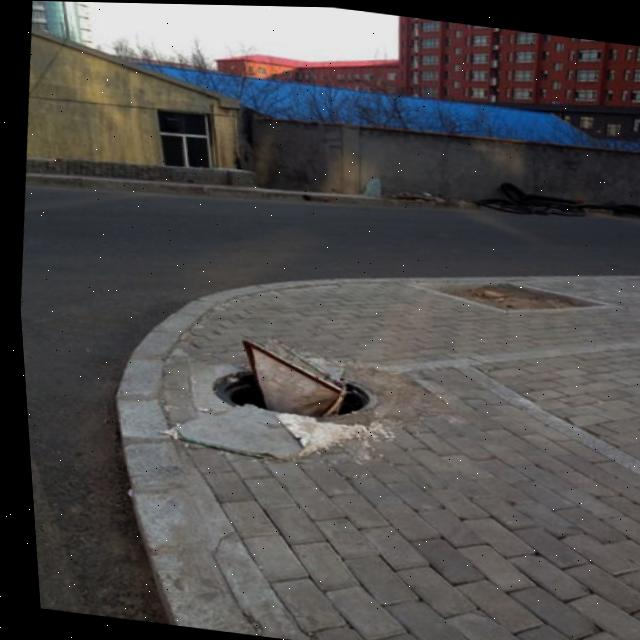manhole: (196, 336, 382, 430)
